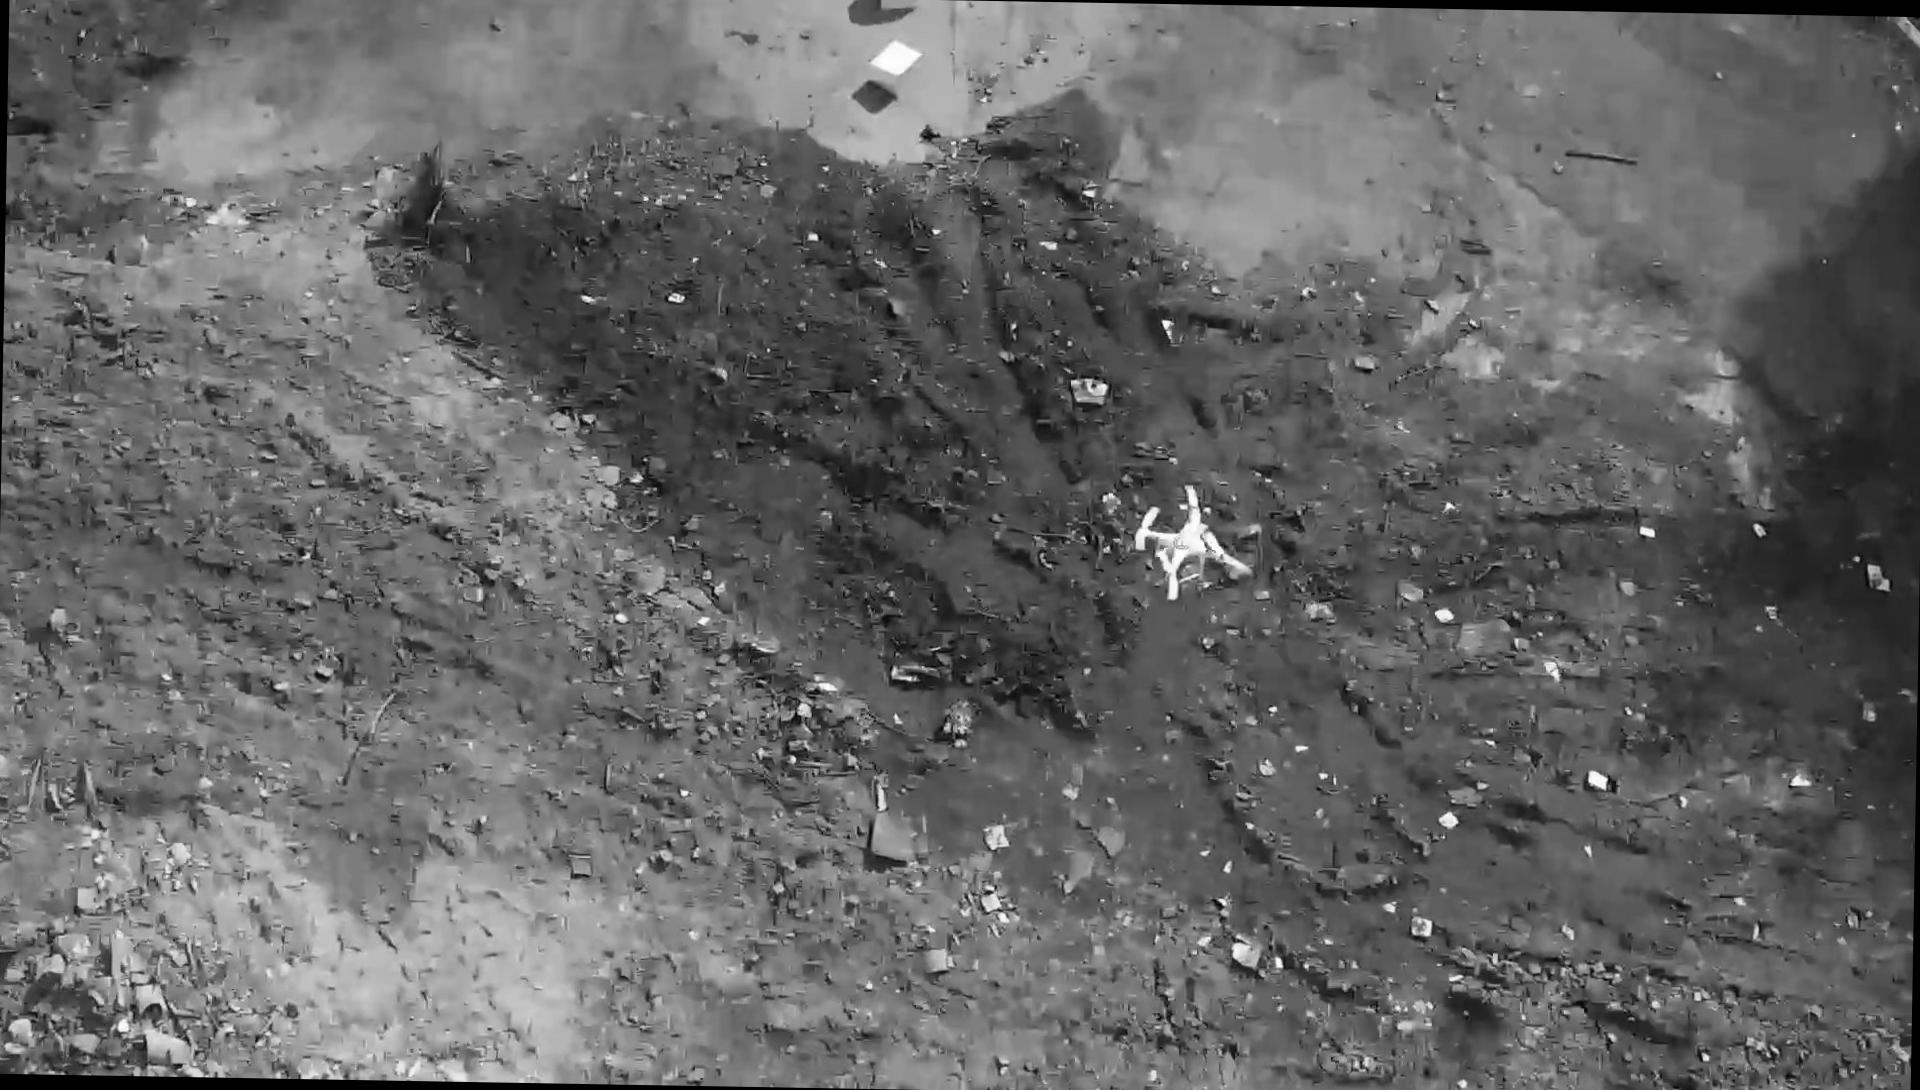drone: (1121, 472, 1257, 601)
